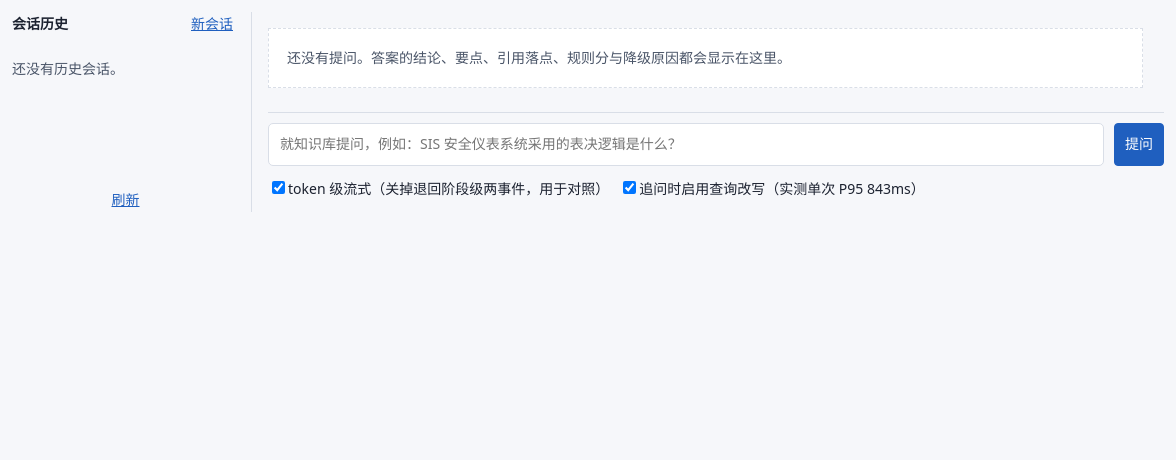
Scenario: 问答页的三态渲染 › 规则分要带 score_basis 原样出现，不能显示成概率
Type "表决逻辑是什么？" into the search field named "问题" at (686,145), box [268,123,1104,166]
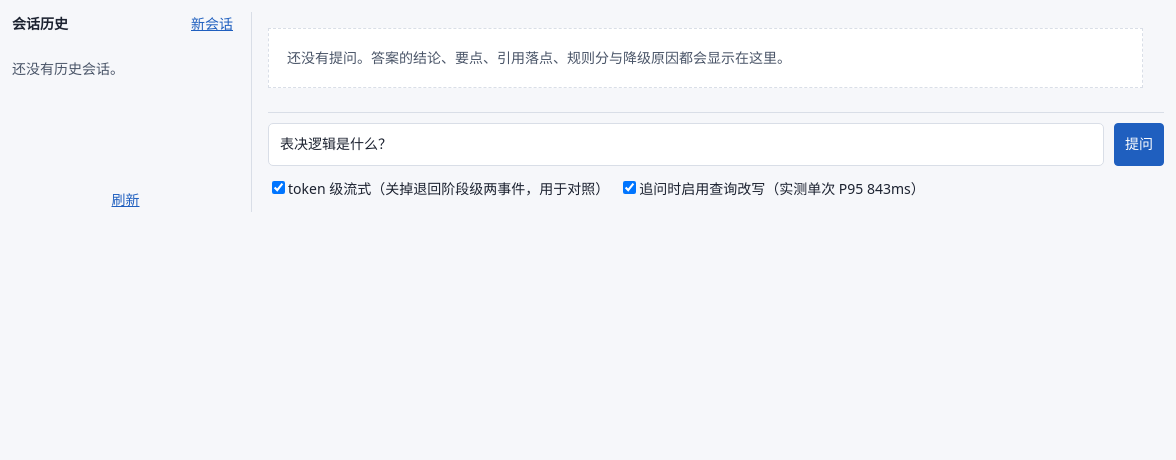
Click the button "提问" at (1139,145), box [1114,123,1164,166]
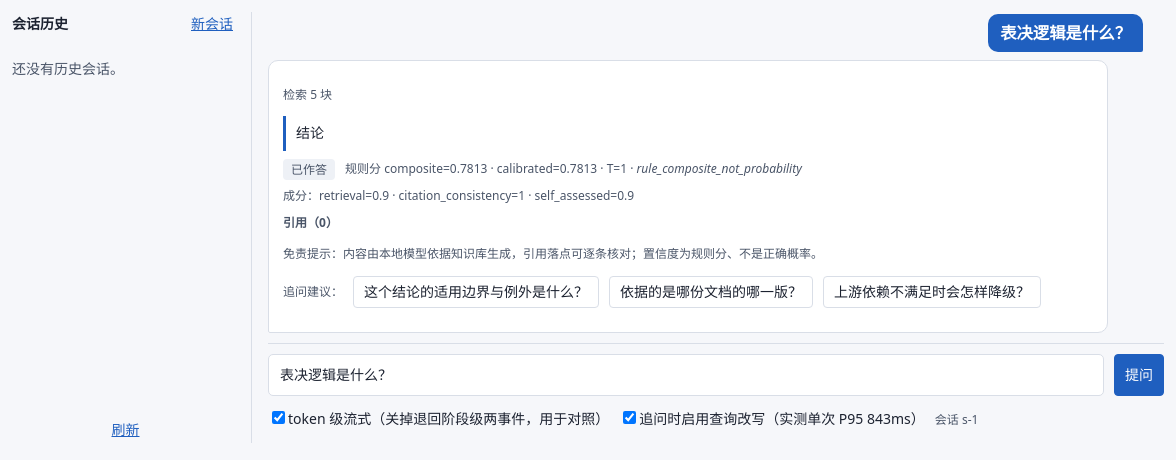
Check: the element with test id "confidence" shows "rule_composite_not_probability", box [637,160,802,177]
Check: the element with test id "confidence" shows "0.7813", box [450,160,487,177]
